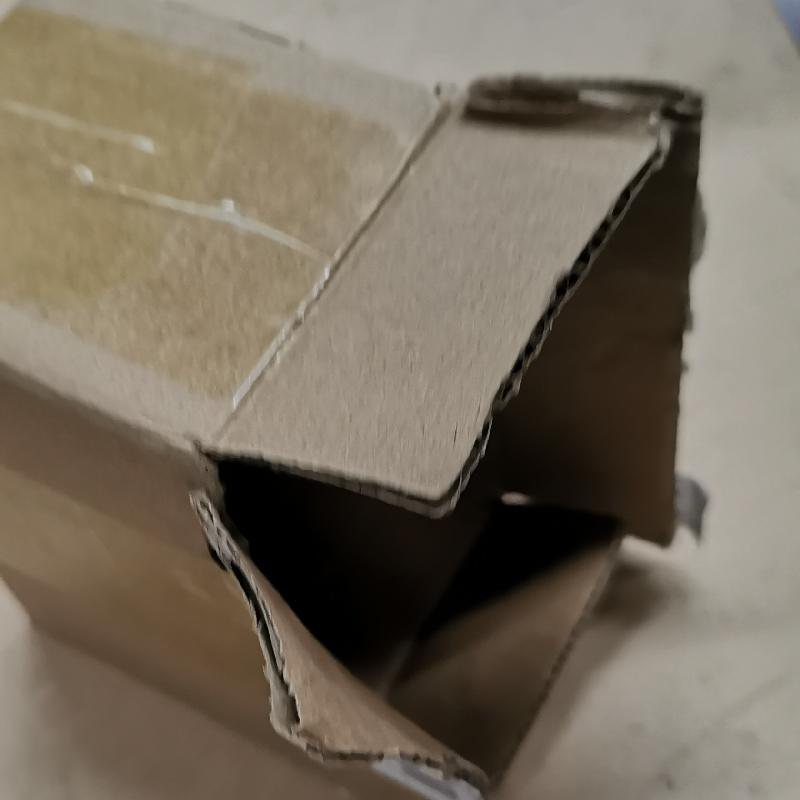boxes: (3, 4, 710, 799)
